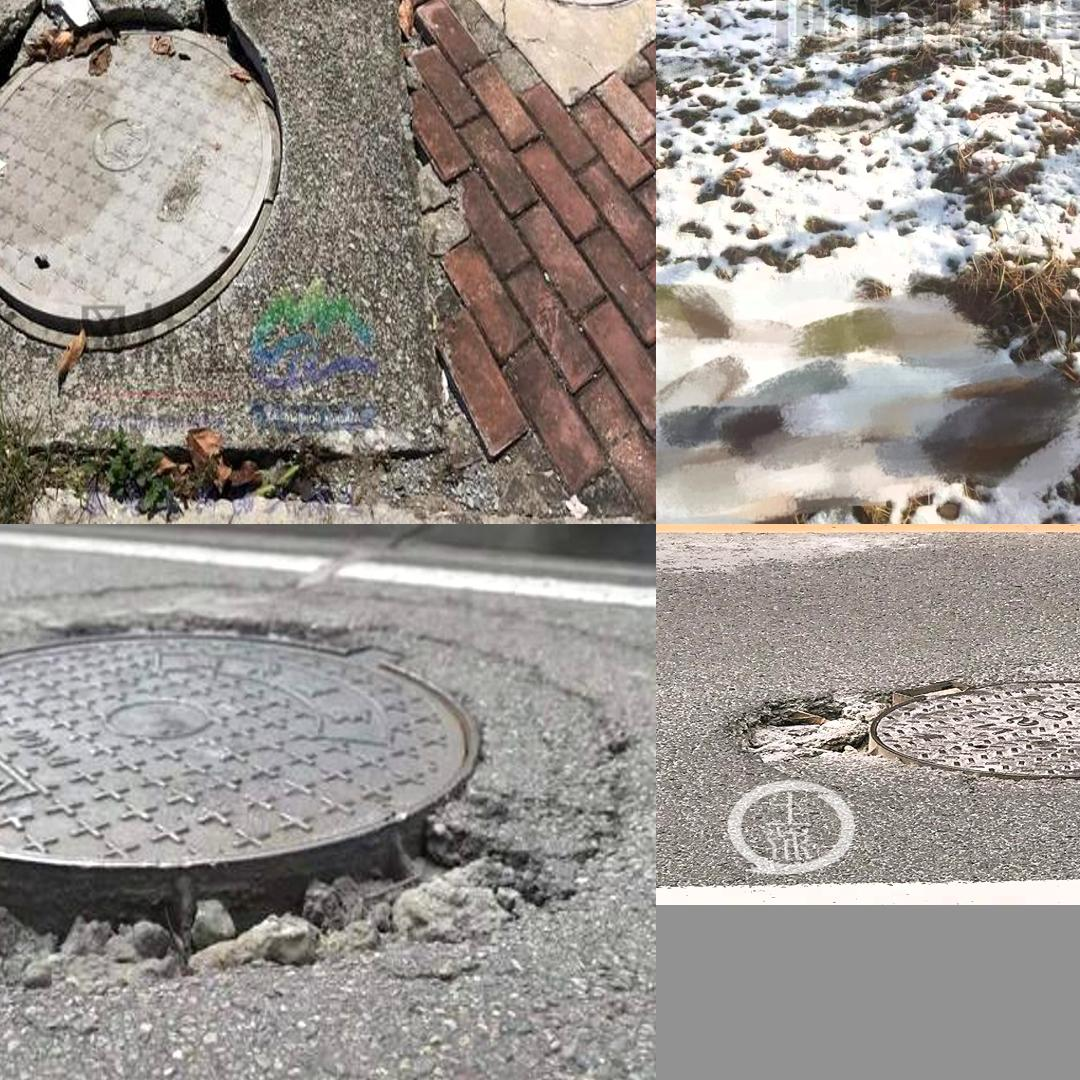circle: (0, 602, 620, 1032), (0, 0, 456, 457), (712, 674, 1080, 792), (848, 0, 1042, 22)
